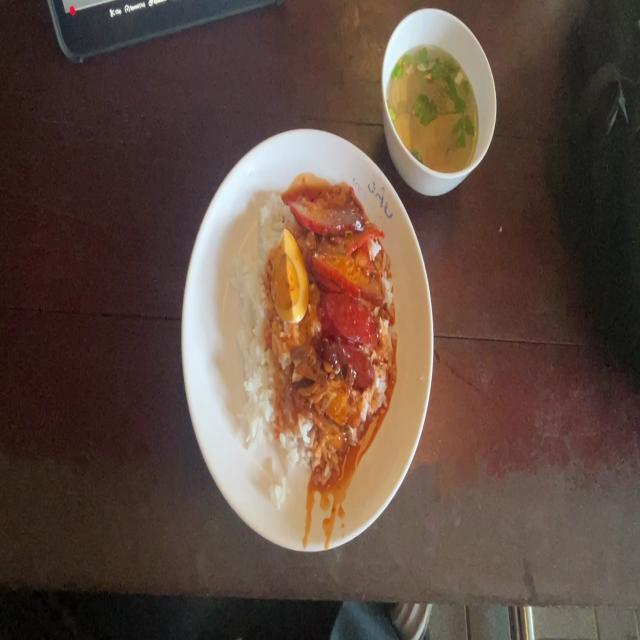01boiled_egg: (272, 231, 308, 325)
01chainese_sausage: (317, 288, 375, 376)
01crispy_pork: (312, 372, 353, 449)
01red_pork: (307, 183, 383, 288)
01red_pork_and_crispy_pork: (235, 187, 392, 476)
01rice: (229, 234, 273, 461), (262, 329, 298, 454), (255, 192, 295, 240)
